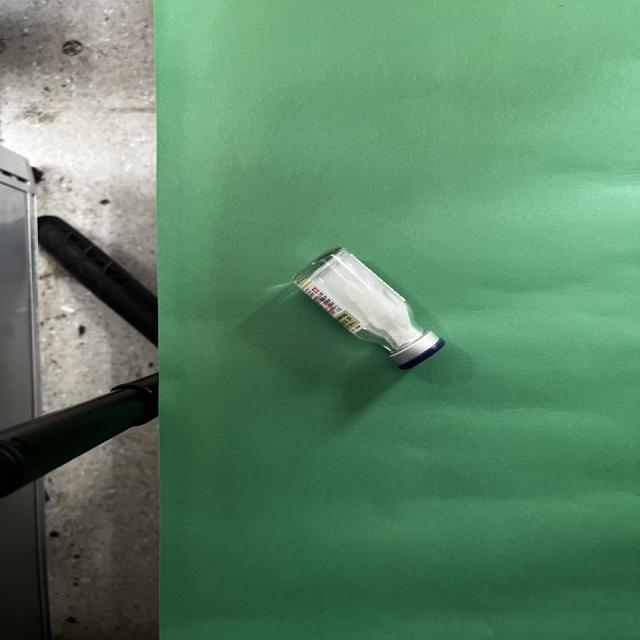Vials: (293, 248, 444, 370)
